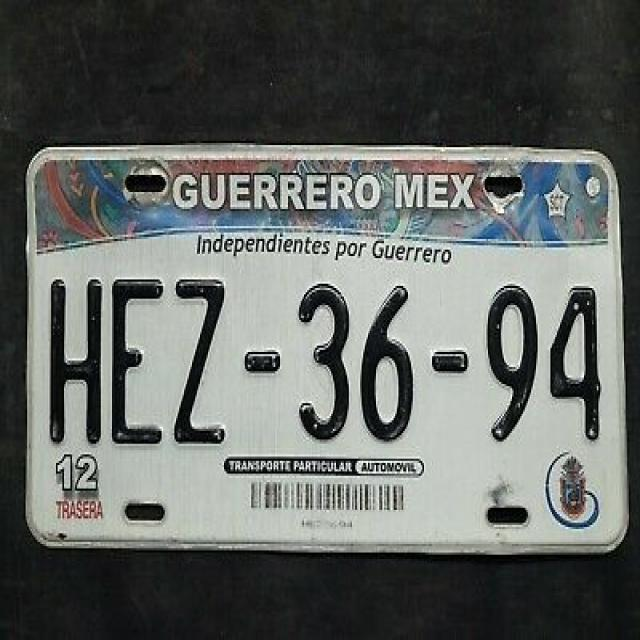placa: (35, 266, 615, 461)
